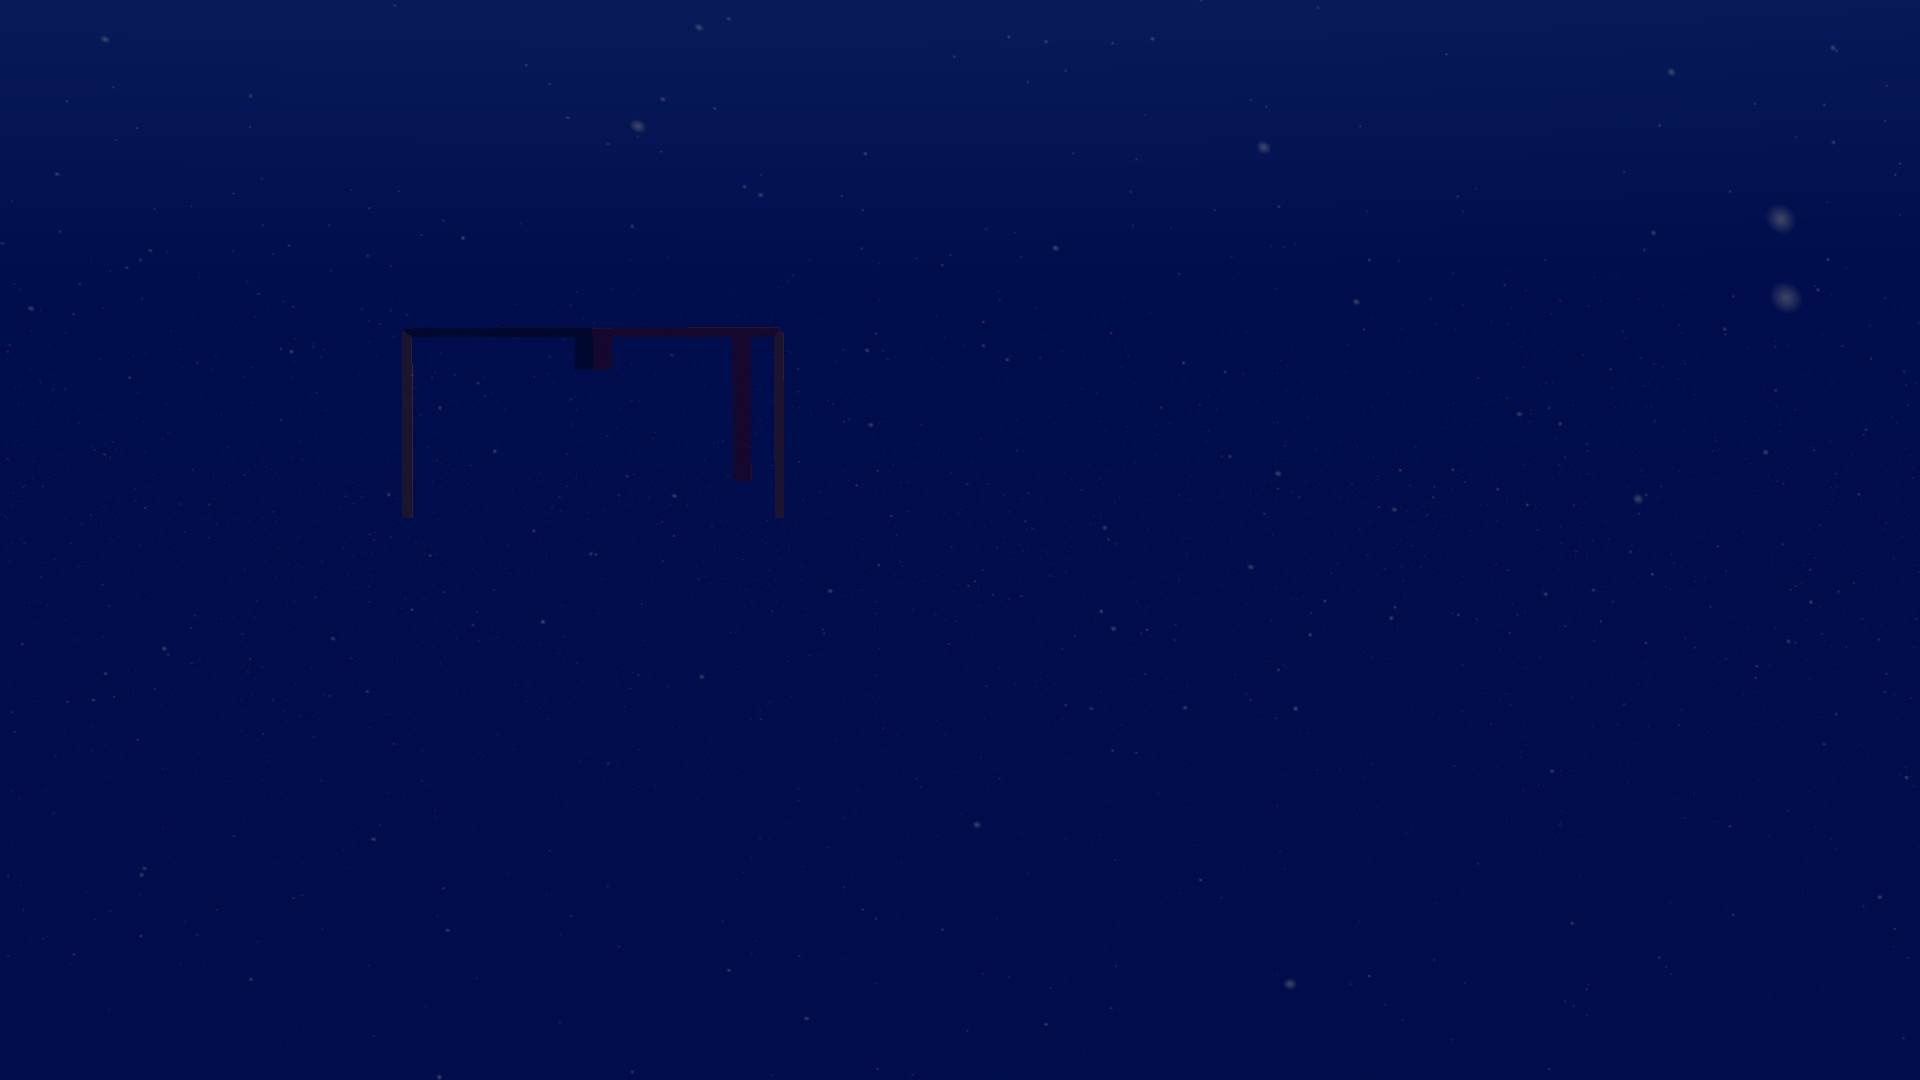Gate: (390, 316, 798, 531)
